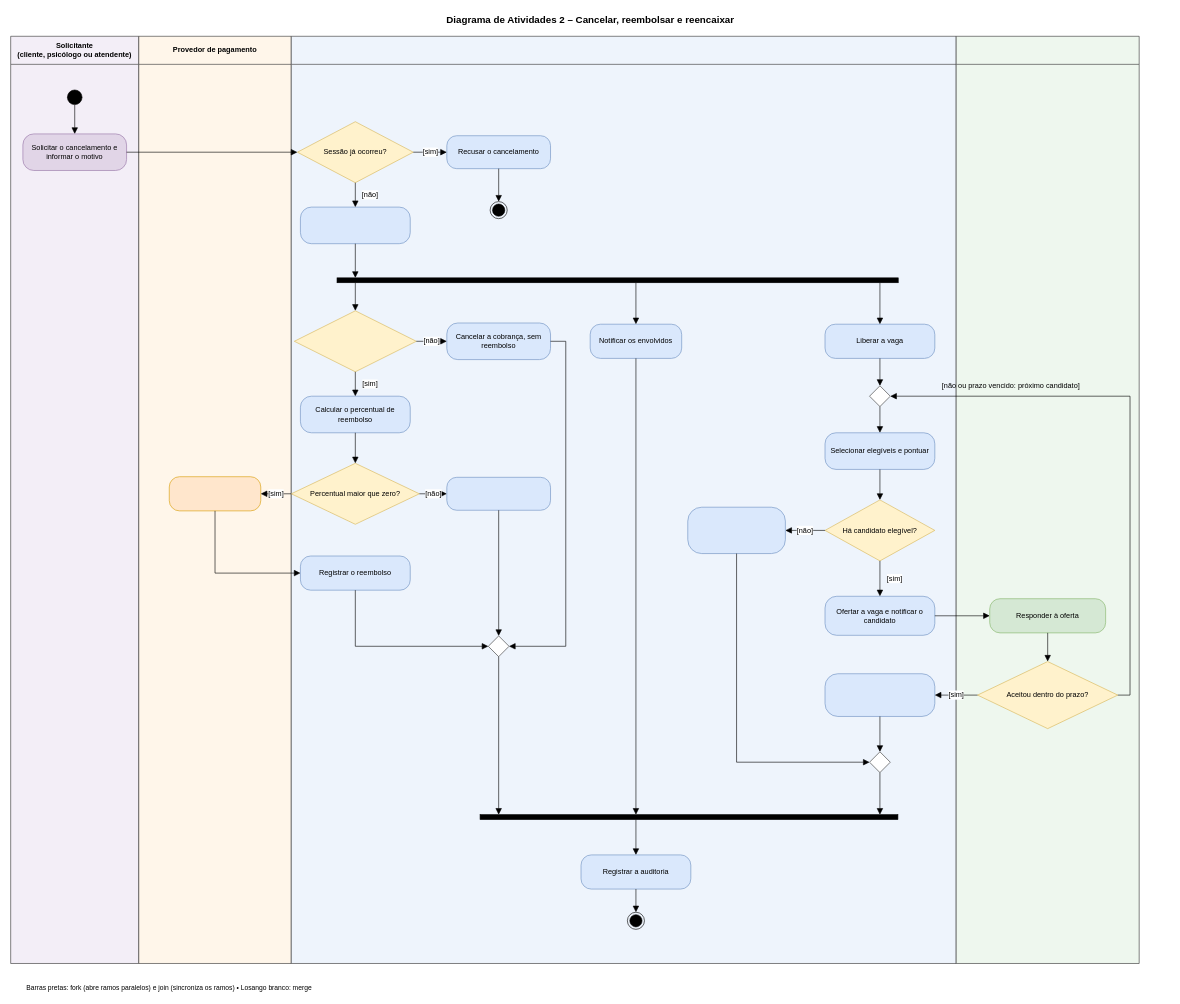
The diagram is 1180 pixels wide and 1004 high, and some of its shapes have lost their labels. The box of each missing label's shape, as (x1, y1, x2, y2) in pixels:
Agendamento foi pago?: (294, 310, 416, 372)
Candidato da lista de espera: (956, 36, 1139, 963)
Deixar a vaga disponível para agendamento direto: (687, 507, 785, 554)
Gerar a cobrança e reservar por 15 minutos: (824, 673, 935, 716)
Processar o reembolso: (169, 476, 261, 511)
PsicoHub: (291, 36, 956, 963)
Registrar autor, data, hora e motivo: (300, 206, 410, 244)
Registrar sem reembolso: (446, 477, 551, 510)
